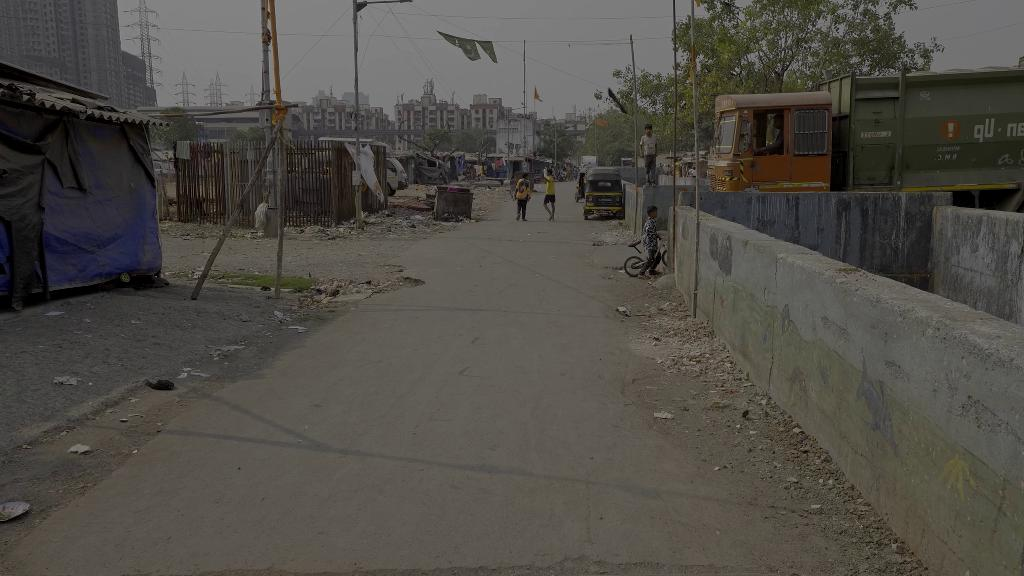dustbin: (430, 186, 474, 222)
garbage: (140, 374, 179, 400), (66, 438, 89, 460)
